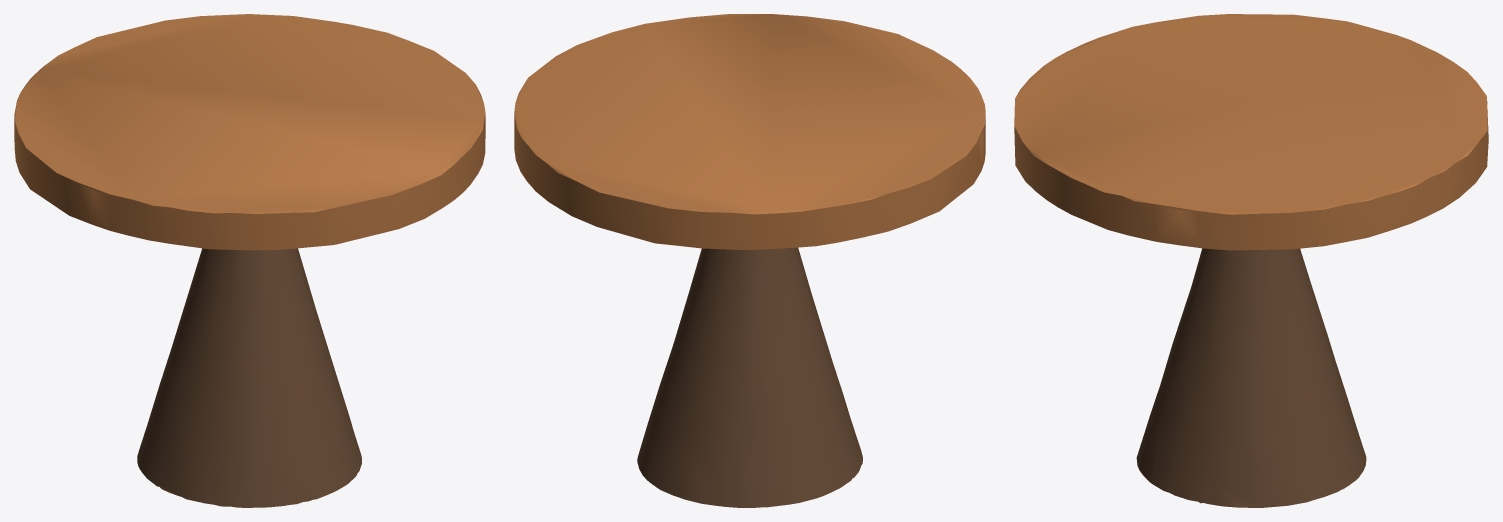
Rendered from sideTable.glb.
The picture shows the model from 3 angles, left to right: view 1: azimuth 30°, elevation 25°; view 2: azimuth 150°, elevation 25°; view 3: azimuth 270°, elevation 25°; orthographic projection.
Parts seen in each view (by area): view 1: sideTable_wood, sideTable_dark; view 2: sideTable_wood, sideTable_dark; view 3: sideTable_wood, sideTable_dark.
Part boxes in pixels (bbox=[...]): sideTable_wood: bbox=[14, 14, 485, 250]; sideTable_dark: bbox=[137, 248, 361, 507]; sideTable_wood: bbox=[514, 14, 985, 249]; sideTable_dark: bbox=[637, 247, 862, 507]; sideTable_wood: bbox=[1014, 14, 1488, 250]; sideTable_dark: bbox=[1136, 248, 1366, 507].
Bounding box in the file's own units: 0.678 × 0.5494 × 0.6779.
